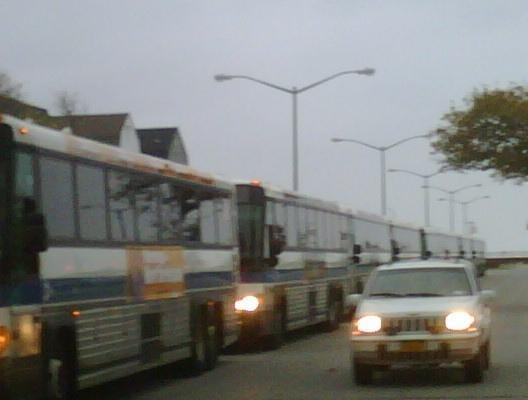bus: (0, 110, 240, 394), (236, 186, 358, 350), (352, 212, 392, 295), (388, 220, 430, 260), (423, 229, 461, 259), (460, 234, 487, 276)
car: (346, 256, 495, 386)
truck: (343, 252, 499, 390)
